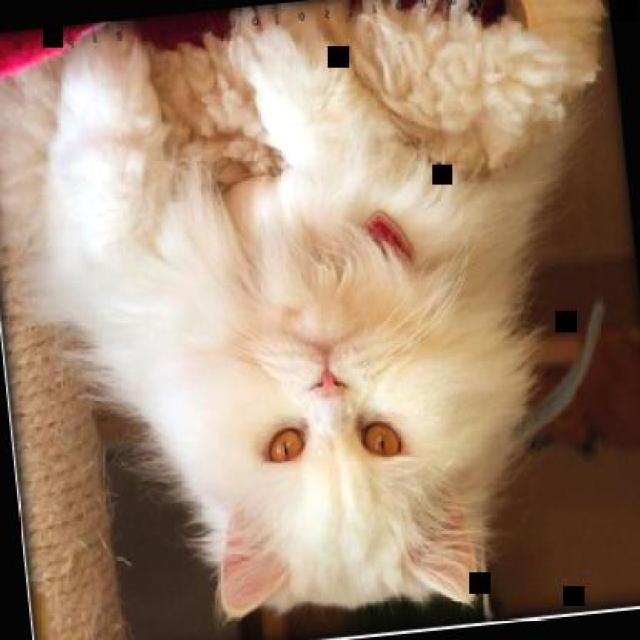cat: (15, 0, 578, 638)
